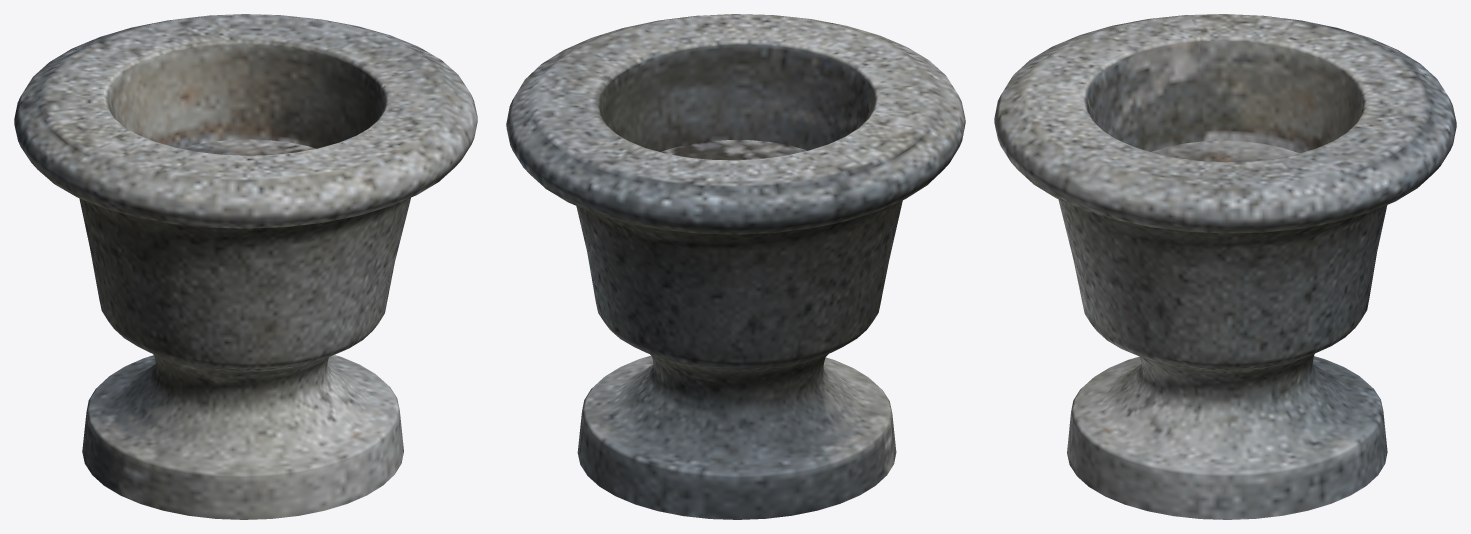
The model's file is sm_Grave_02_03.fbx.
3 renders of one model, left to right at view 1: azimuth 30°, elevation 25°; view 2: azimuth 150°, elevation 25°; view 3: azimuth 270°, elevation 25°, orthographic.
Visible parts, largest first — view 1: sm_Grave_02_03_LOD0; view 2: sm_Grave_02_03_LOD0; view 3: sm_Grave_02_03_LOD0.
Part boxes in pixels (x1,y1,x2,y2): sm_Grave_02_03_LOD0: (14, 14, 477, 519); sm_Grave_02_03_LOD0: (506, 14, 965, 519); sm_Grave_02_03_LOD0: (994, 14, 1456, 519).
Bounding box in the file's own units: 28 × 28.01 × 23.86.
